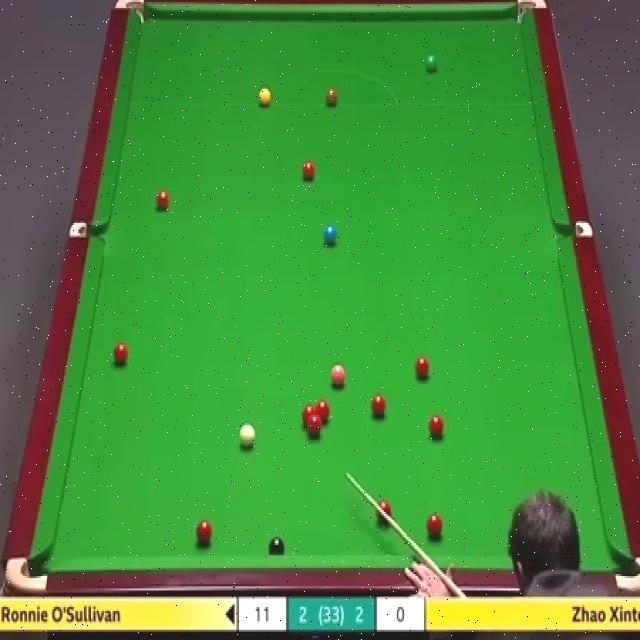black-ball: (268, 536, 287, 557)
blue-ball: (322, 225, 338, 246)
brown-ball: (325, 84, 338, 106)
green-ball: (422, 52, 438, 74)
pink-ball: (330, 364, 347, 390)
red-ball: (368, 391, 386, 418), (414, 354, 432, 381), (195, 518, 212, 546), (375, 500, 392, 526), (425, 514, 443, 538), (428, 414, 443, 442), (300, 159, 316, 183), (302, 404, 316, 430), (114, 342, 128, 367), (316, 400, 330, 424), (308, 418, 323, 438), (156, 192, 168, 211)
white-ball: (238, 422, 258, 446)
yellow-ball: (257, 88, 272, 106)
